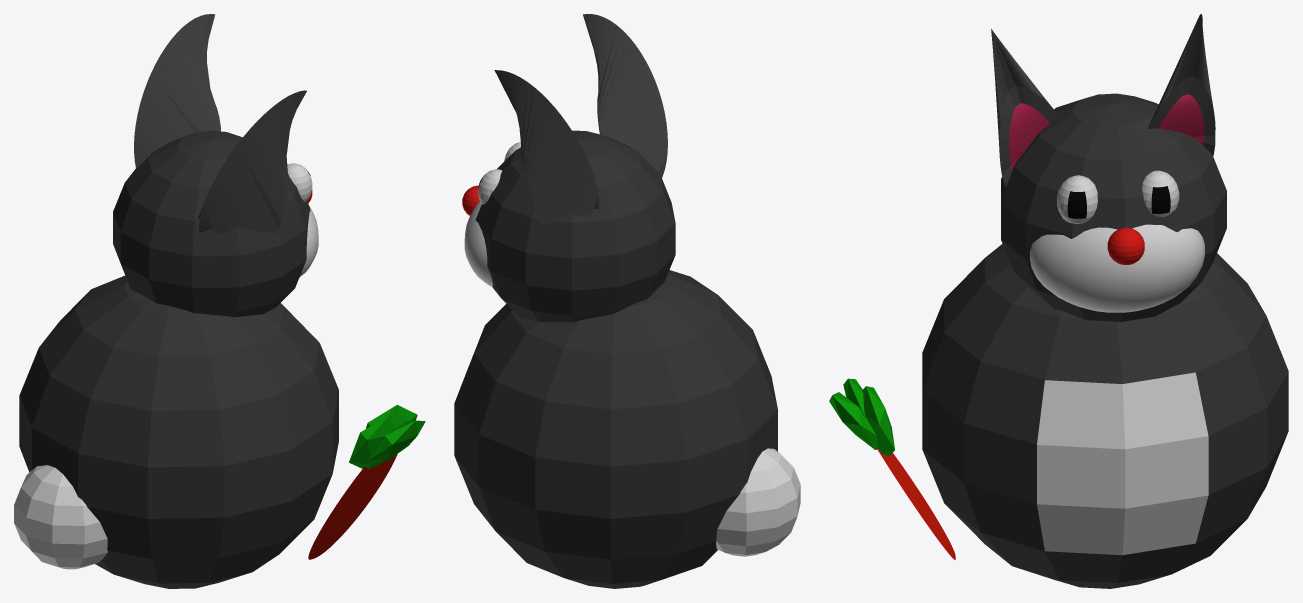
Rendered from coelho.obj.
3 renders of one model, left to right at view 1: azimuth 30°, elevation 25°; view 2: azimuth 150°, elevation 25°; view 3: azimuth 270°, elevation 25°, orthographic. The views are drawn at different scales.
Parts seen in each view (by area): view 1: Sphere_Sphere.002, Sphere.001_Sphere.003, Sphere.006_Sphere.008, Sphere.007_Sphere.009, Sphere.002_Sphere.004, Sphere.008_Sphere.010, Icosphere.002_Icosphere.003, Icosphere.001_Icosphere.002, Sphere.003_Sphere.005, SurfSphere; view 2: Sphere_Sphere.002, Sphere.001_Sphere.003, Sphere.007_Sphere.009, Sphere.006_Sphere.008, Sphere.002_Sphere.004, SurfSphere, Sphere.004_Sphere.006; view 3: Sphere_Sphere.002, Sphere.001_Sphere.003, SurfSphere, Sphere.006_Sphere.008, Sphere.007_Sphere.009, Sphere.003_Sphere.005, Sphere.008_Sphere.010, Sphere.004_Sphere.006, Icosphere_Icosphere.001, Icosphere.001_Icosphere.002, Sphere.005_Sphere.007.
Part boxes in pixels (box(x1,y1,x2,y2)): Sphere_Sphere.002: box(19, 275, 338, 588); Sphere.001_Sphere.003: box(113, 130, 310, 317); Sphere.006_Sphere.008: box(197, 90, 306, 235); Sphere.007_Sphere.009: box(134, 14, 220, 169); Sphere.002_Sphere.004: box(14, 465, 107, 569); Sphere.008_Sphere.010: box(308, 454, 397, 559); Icosphere.002_Icosphere.003: box(349, 415, 404, 468); Icosphere.001_Icosphere.002: box(368, 420, 425, 460); Sphere.003_Sphere.005: box(287, 163, 312, 201); SurfSphere: box(300, 205, 318, 276); Sphere_Sphere.002: box(454, 270, 777, 588); Sphere.001_Sphere.003: box(475, 130, 675, 322); Sphere.007_Sphere.009: box(494, 70, 598, 227); Sphere.006_Sphere.008: box(583, 14, 667, 177); Sphere.002_Sphere.004: box(716, 448, 800, 556); SurfSphere: box(464, 201, 492, 286); Sphere.004_Sphere.006: box(478, 169, 502, 204); Sphere_Sphere.002: box(922, 244, 1288, 588); Sphere.001_Sphere.003: box(1001, 93, 1226, 321); SurfSphere: box(1030, 224, 1204, 312); Sphere.006_Sphere.008: box(991, 28, 1059, 188); Sphere.007_Sphere.009: box(1148, 14, 1215, 156); Sphere.003_Sphere.005: box(1057, 175, 1097, 223); Sphere.008_Sphere.010: box(877, 448, 955, 559); Sphere.004_Sphere.006: box(1142, 170, 1179, 216); Icosphere_Icosphere.001: box(862, 386, 894, 455); Icosphere.001_Icosphere.002: box(829, 392, 878, 449); Sphere.005_Sphere.007: box(1107, 227, 1144, 264).
Bounding box in the file's own units: 2.17 × 3.45 × 2.43.
